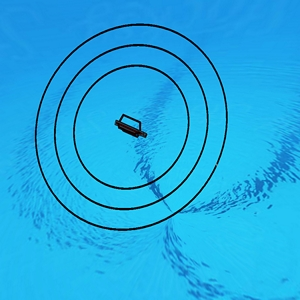circle: (32, 15, 236, 241)
submarine: (115, 114, 152, 140)
